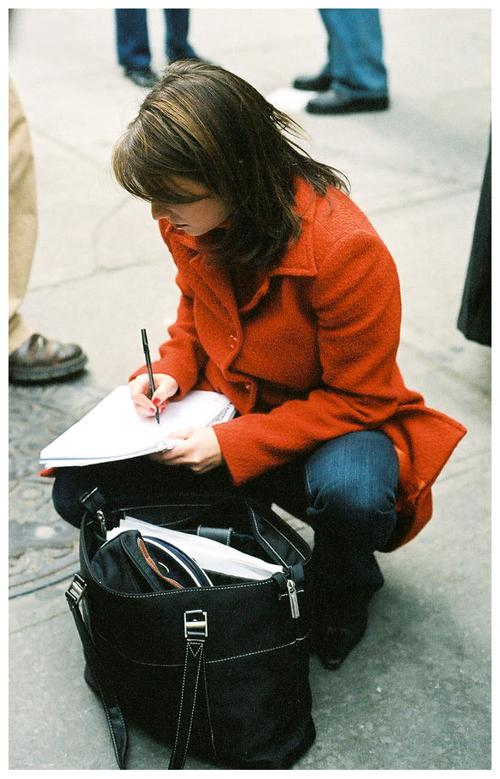person: (52, 61, 459, 657)
